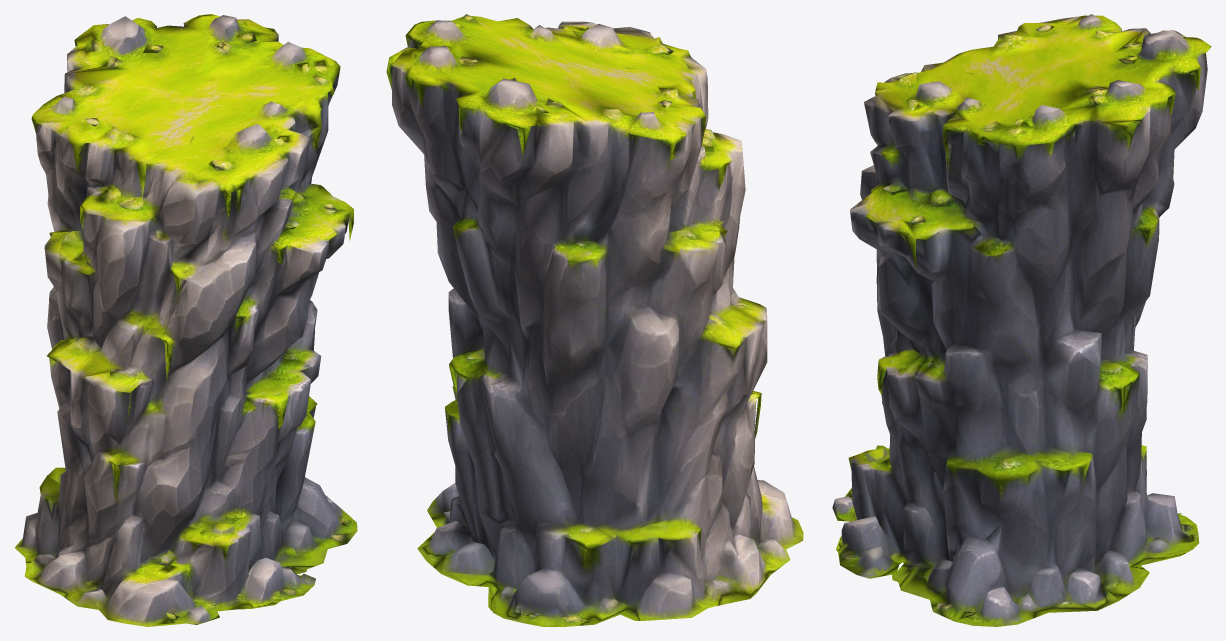
The picture shows the model from 3 angles, left to right: view 1: azimuth 30°, elevation 25°; view 2: azimuth 150°, elevation 25°; view 3: azimuth 270°, elevation 25°; orthographic projection. The views are drawn at different scales.
Visible parts, largest first — view 1: prop; view 2: prop; view 3: prop.
Part boxes in pixels (bbox=[...]): prop: bbox=[14, 14, 357, 626]; prop: bbox=[386, 14, 803, 626]; prop: bbox=[832, 14, 1211, 626].
Size of the model in its own units: 0.6784 by 0.9999 by 0.6629.
1 material, 1 textured.
